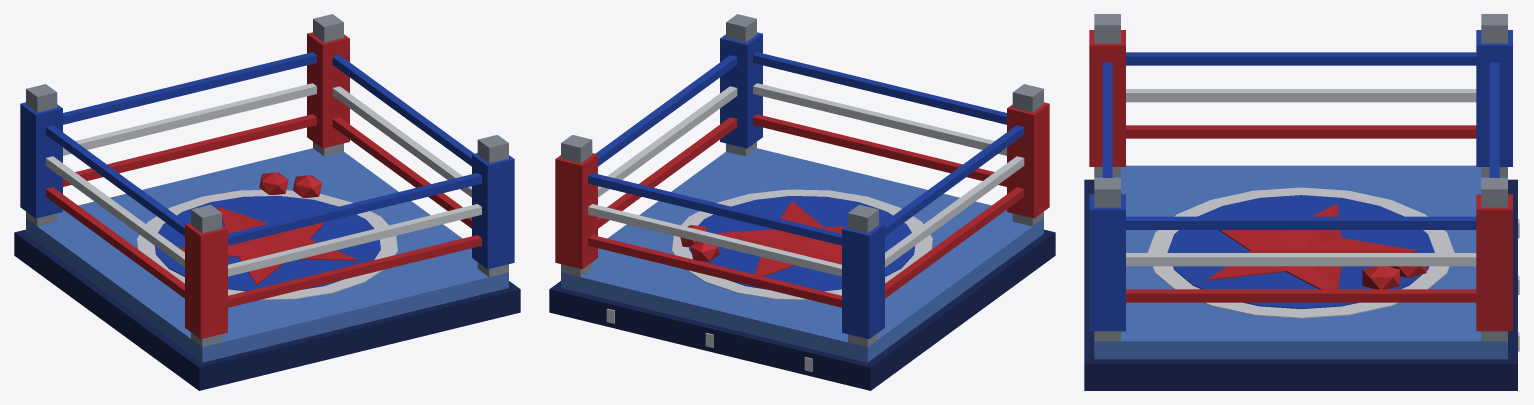
File: Decor_HeroHQ_Ring.fbx
3 views of the same model, side by side, from view 1: azimuth 30°, elevation 25°; view 2: azimuth 150°, elevation 25°; view 3: azimuth 270°, elevation 25° (orthographic). The views are drawn at different scales.
Visible parts, largest first — view 1: Ring_Body; view 2: Ring_Body; view 3: Ring_Body.
Part boxes in pixels (x1=…): Ring_Body: x1=14, y1=14, x2=520, y2=390; Ring_Body: x1=549, y1=14, x2=1055, y2=390; Ring_Body: x1=1084, y1=14, x2=1519, y2=390.
Bounding box in the file's own units: 13 × 6.5 × 13.
